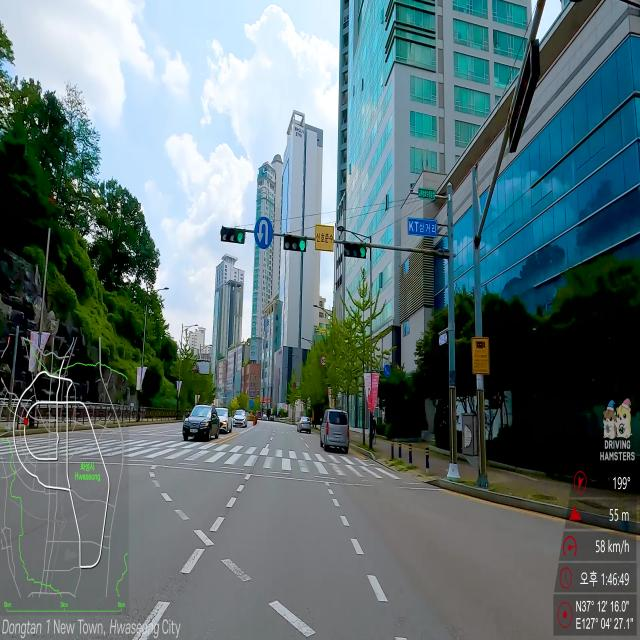Green Light: (237, 230, 244, 243), (299, 239, 306, 251), (360, 246, 366, 258)
